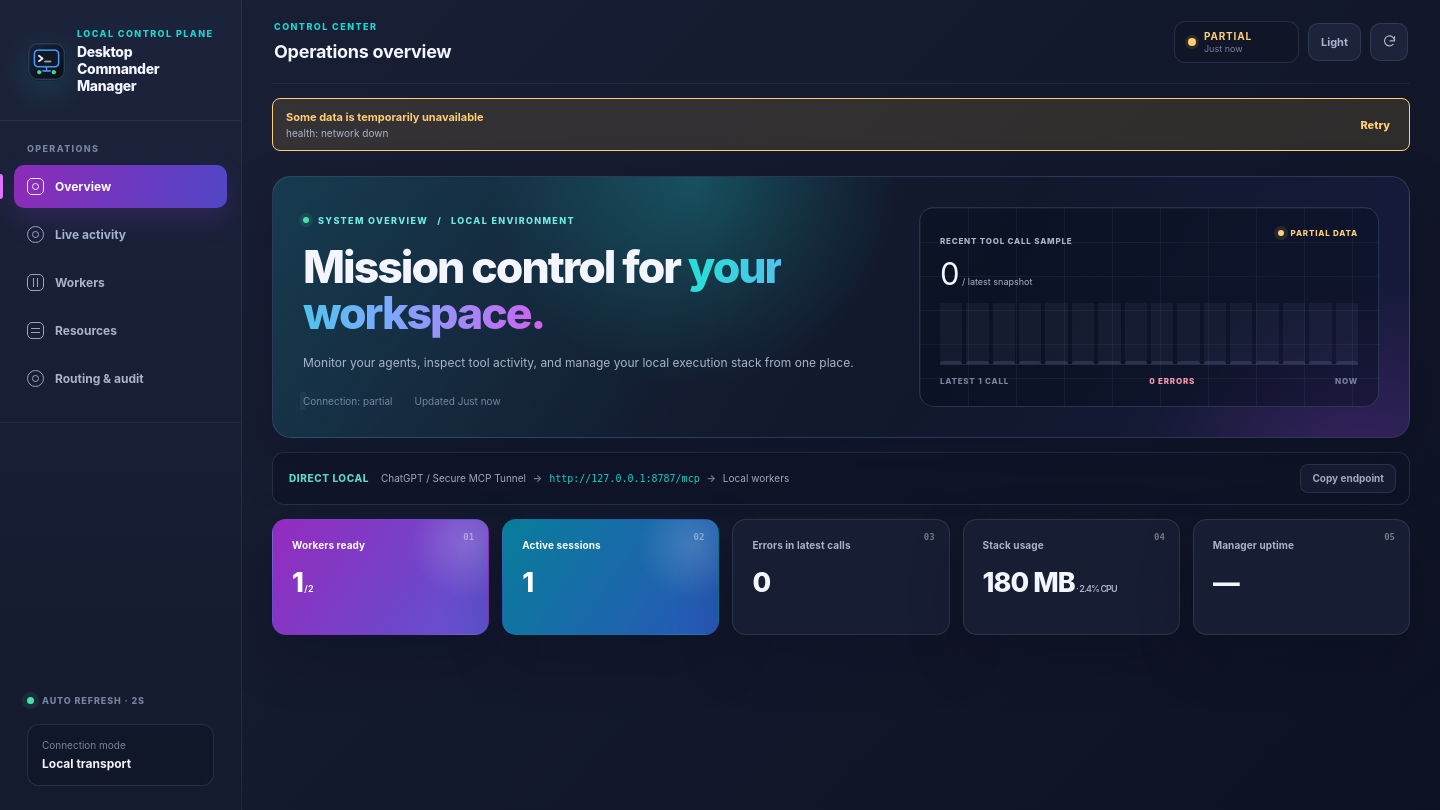
Scenario: dashboard › keeps successful data visible when one source fails
Expected: the message "Some data is temporarily unavailable health: network down Retry" is shown, [272,98,1410,151]
Click the link "Workers" at (66, 282), box [27,274,105,291]
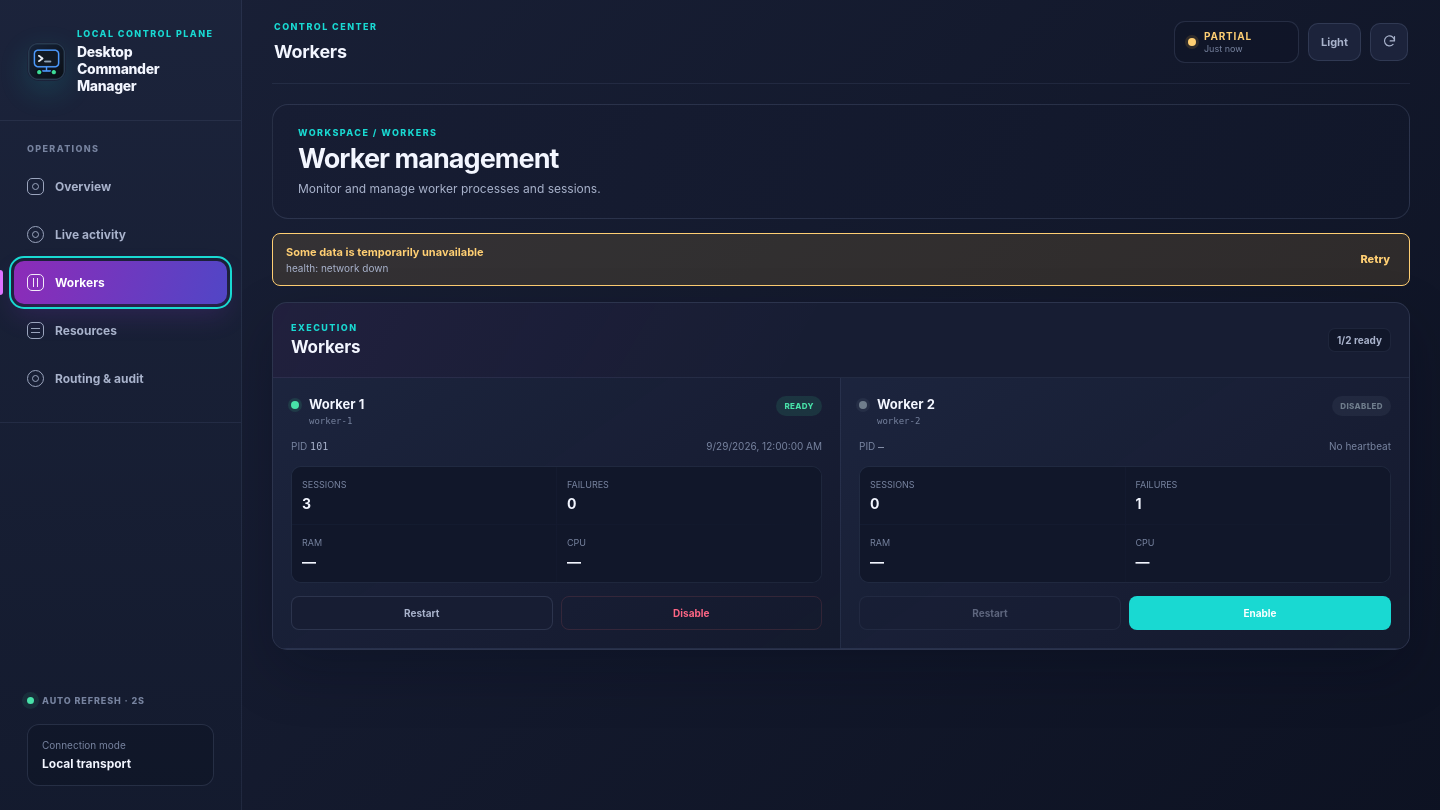
Expected: the message "PARTIAL Just now" is shown, [1174,20,1299,62]
Now the heading "Worker 1" is shown, box [309,396,364,412]
